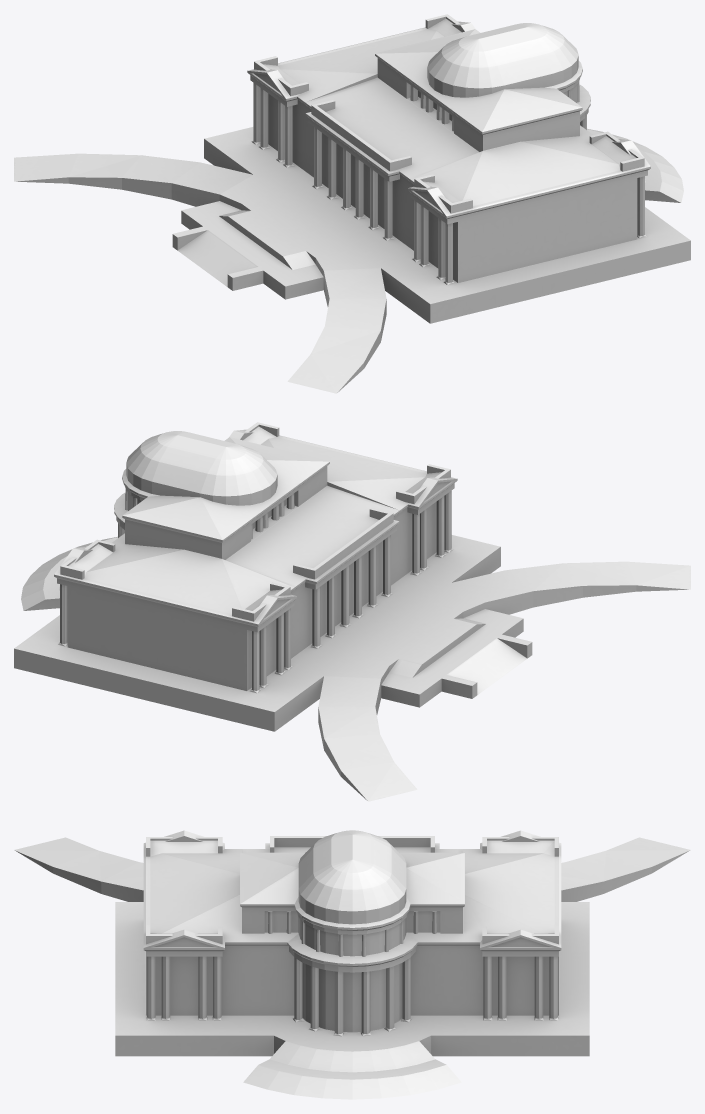
File: elaginpalace.dae
3 renders of one model, top to bottom at view 1: azimuth 30°, elevation 25°; view 2: azimuth 150°, elevation 25°; view 3: azimuth 270°, elevation 25°, orthographic. The views are drawn at different scales.
Visible parts, largest first — view 1: ElaginPalace; view 2: ElaginPalace; view 3: ElaginPalace.
Part boxes in pixels (x1=…): ElaginPalace: x1=14, y1=14, x2=690, y2=393; ElaginPalace: x1=14, y1=422, x2=690, y2=801; ElaginPalace: x1=14, y1=830, x2=690, y2=1099.
Bounding box in the file's own units: 0.1043 × 0.1138 × 0.0316.
1 material, 1 textured.
